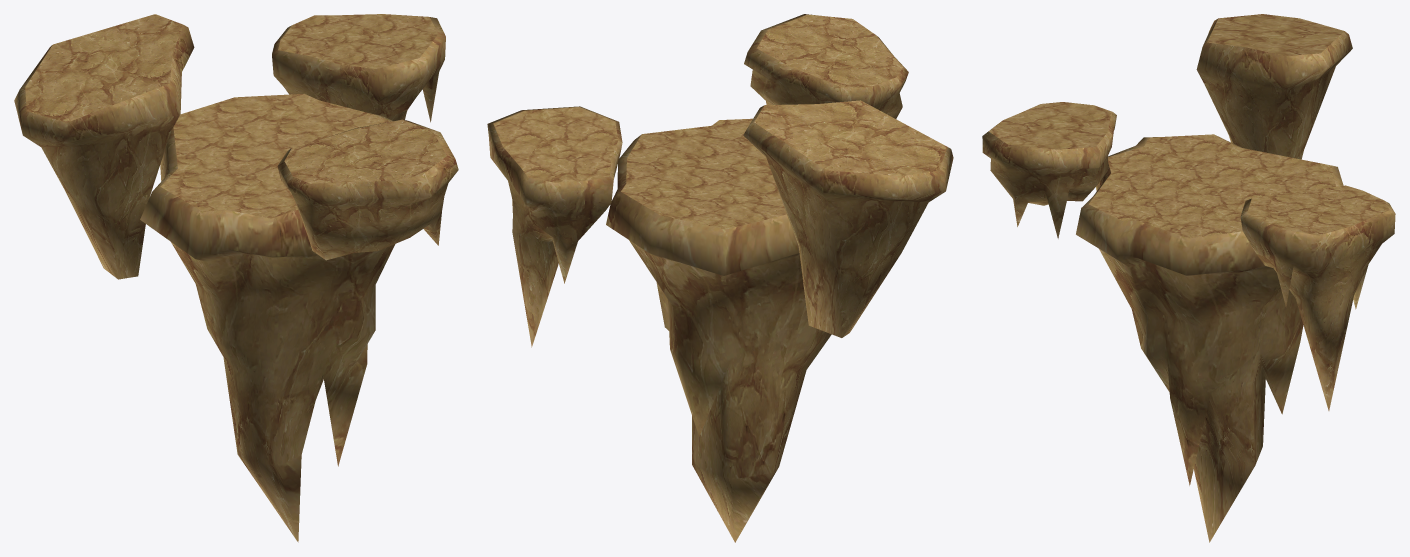
Rendered from environment_stone_shanti_001.FBX.
3 views of the same model, side by side, from view 1: azimuth 30°, elevation 25°; view 2: azimuth 150°, elevation 25°; view 3: azimuth 270°, elevation 25° (orthographic). The views are drawn at different scales.
Parts seen in each view (by area): view 1: environment_stone_dashanshi_001; view 2: environment_stone_dashanshi_001; view 3: environment_stone_dashanshi_001.
Part boxes in pixels (left/top/right/bottom): environment_stone_dashanshi_001: left=14, top=14, right=458, bottom=542; environment_stone_dashanshi_001: left=487, top=14, right=953, bottom=542; environment_stone_dashanshi_001: left=982, top=14, right=1395, bottom=542.
Bounding box in the file's own units: 2022 × 2187 × 1799.
